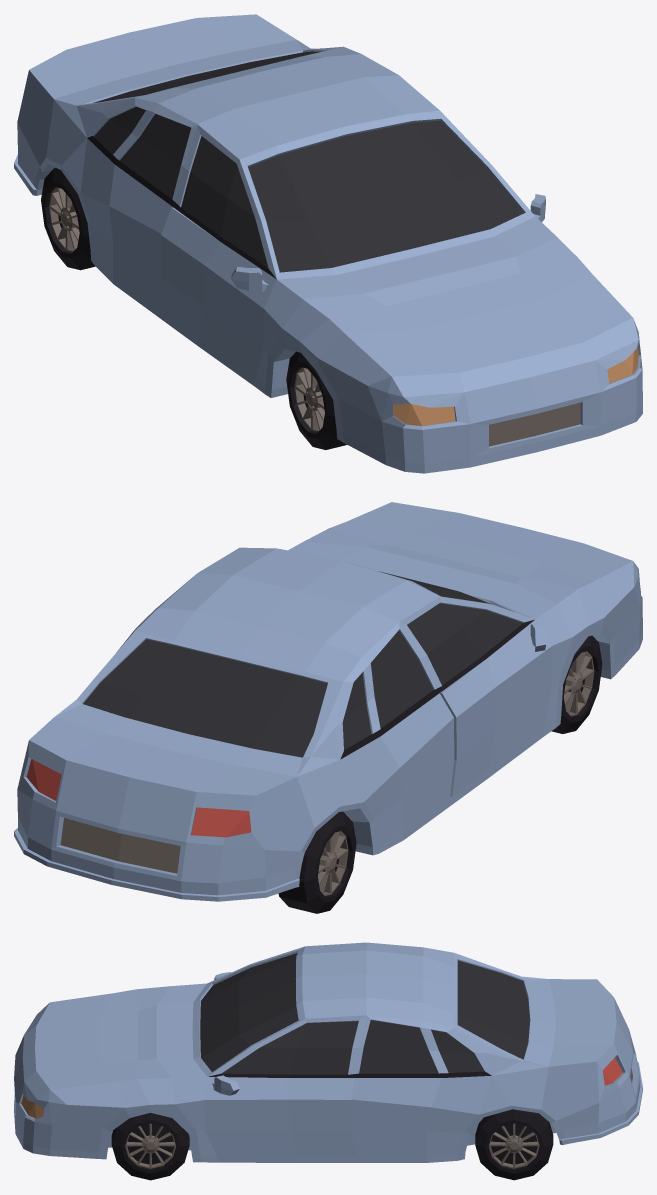
The model's file is car-compact.glb.
3 views of the same model, one above another, from view 1: azimuth 30°, elevation 25°; view 2: azimuth 150°, elevation 25°; view 3: azimuth 270°, elevation 25° (orthographic). The views are drawn at different scales.
Parts seen in each view (by area): view 1: NormalCar1_Cube.012; view 2: NormalCar1_Cube.012; view 3: NormalCar1_Cube.012.
Boxes of the visible parts, <box> form: NormalCar1_Cube.012: <box>14,14,642,473</box>; NormalCar1_Cube.012: <box>14,502,642,913</box>; NormalCar1_Cube.012: <box>14,942,642,1180</box>.
Size of the model in its own units: 1.81 by 1.18 by 4.22.
1 material, 1 textured.
